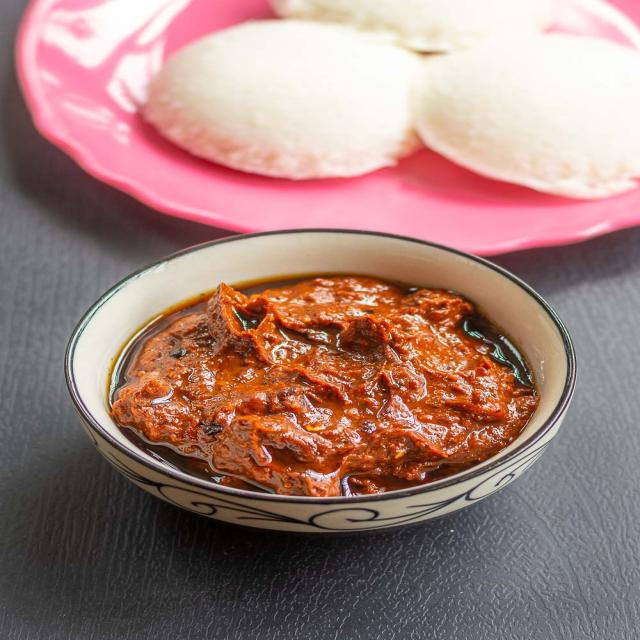idly: (142, 20, 421, 180), (414, 33, 639, 199)
kaara chutney: (71, 252, 546, 502)
